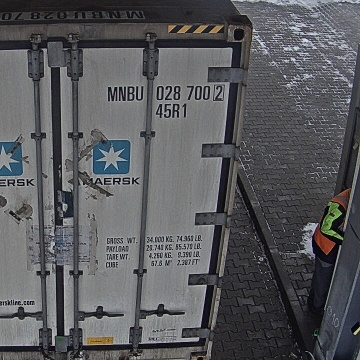serial_id: (107, 85, 222, 101)
